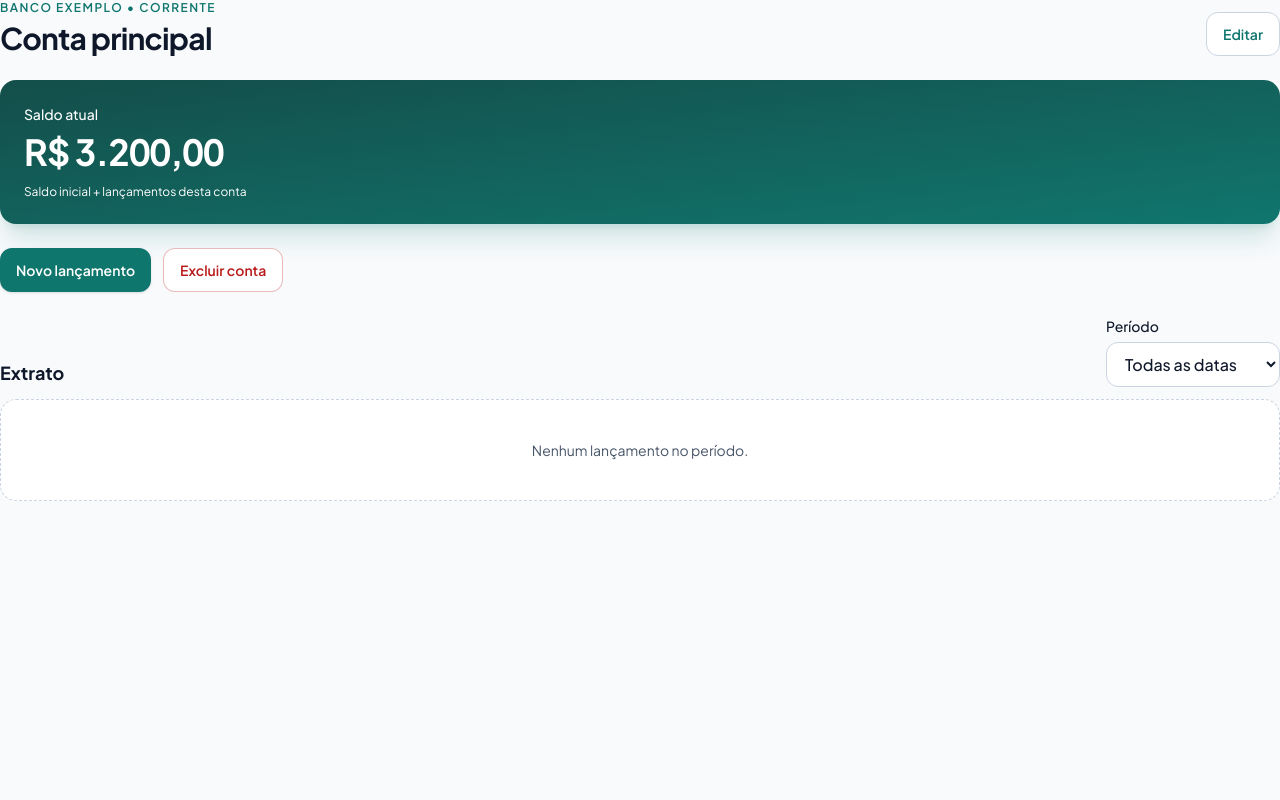
fluxos financeiros › informa e bloqueia exclusão de conta que ainda possui pendências
Step 1. Click the button "Excluir conta" → (223, 270), box [163,248,283,292]
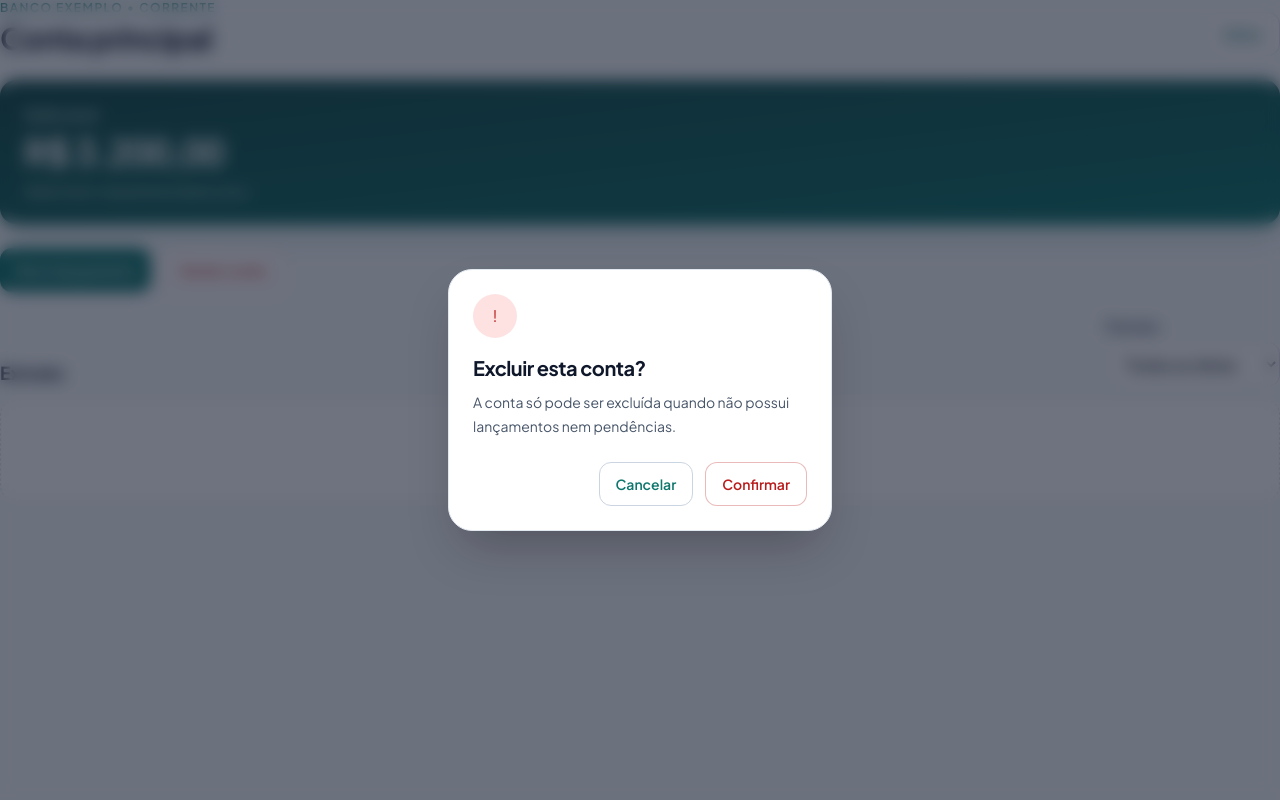
Step 2. Click the button "Confirmar" → (756, 484), box [705,462,807,506]
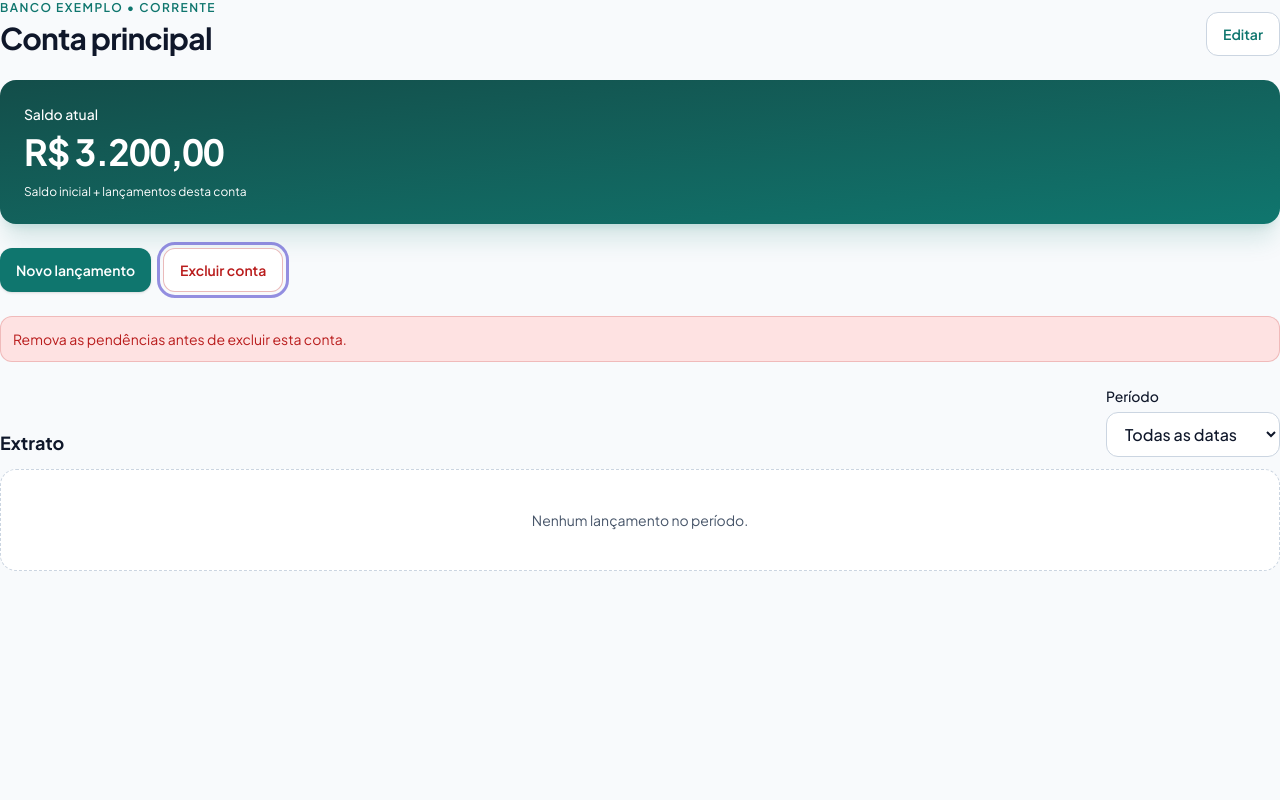
Result: the message shows "pendências" at [13,330,347,348]
